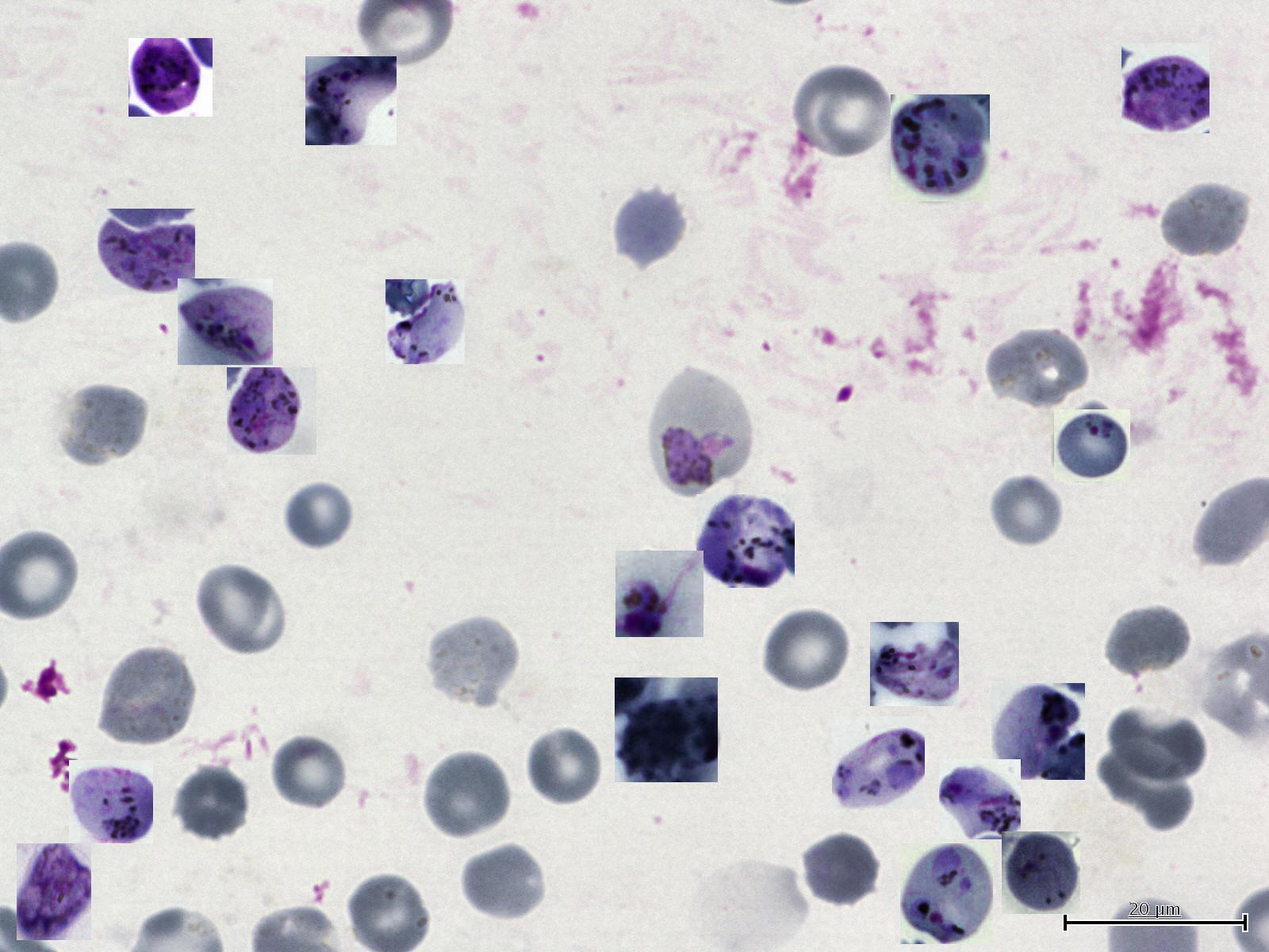Infected: (651, 368, 754, 497), (615, 678, 718, 782), (891, 94, 990, 202), (900, 843, 993, 944), (696, 494, 795, 588), (991, 683, 1085, 780), (832, 716, 925, 809), (178, 278, 273, 365), (98, 209, 195, 294), (305, 56, 397, 145), (1121, 43, 1210, 133), (227, 367, 316, 455), (616, 551, 704, 637), (870, 622, 959, 706), (17, 843, 91, 940), (69, 760, 153, 843), (385, 279, 465, 364), (129, 38, 213, 117), (939, 759, 1021, 839), (1002, 831, 1080, 914), (1054, 409, 1130, 482)
Uninfected: (98, 646, 196, 750), (792, 61, 892, 160), (425, 612, 520, 712), (984, 323, 1089, 412), (197, 564, 289, 657), (1098, 745, 1196, 832), (421, 750, 512, 842), (761, 606, 852, 694), (1106, 705, 1207, 780), (1159, 179, 1250, 261), (58, 381, 148, 463), (458, 841, 548, 922), (1099, 604, 1191, 681), (343, 873, 429, 951), (610, 186, 689, 270), (524, 725, 604, 807), (799, 831, 882, 909), (270, 732, 350, 812), (171, 764, 249, 843), (280, 476, 355, 552), (987, 474, 1064, 547)
